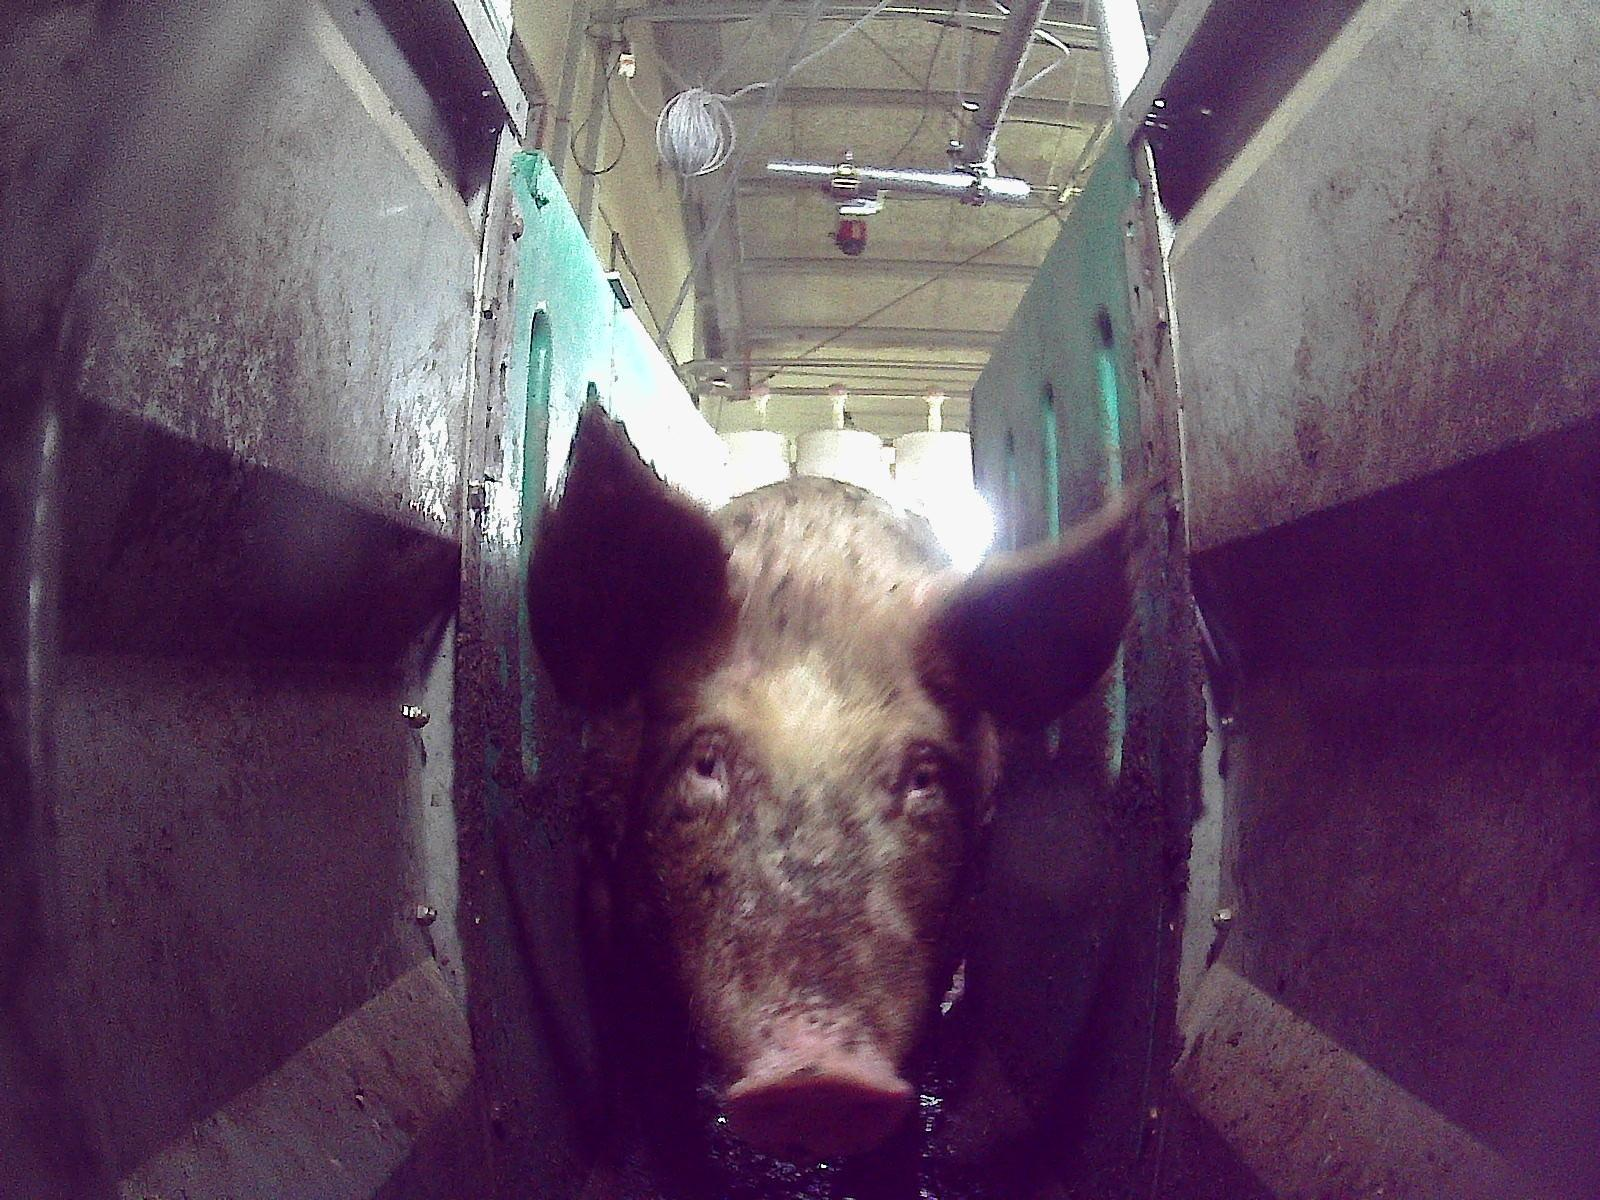Face: (642, 635, 968, 1155)
